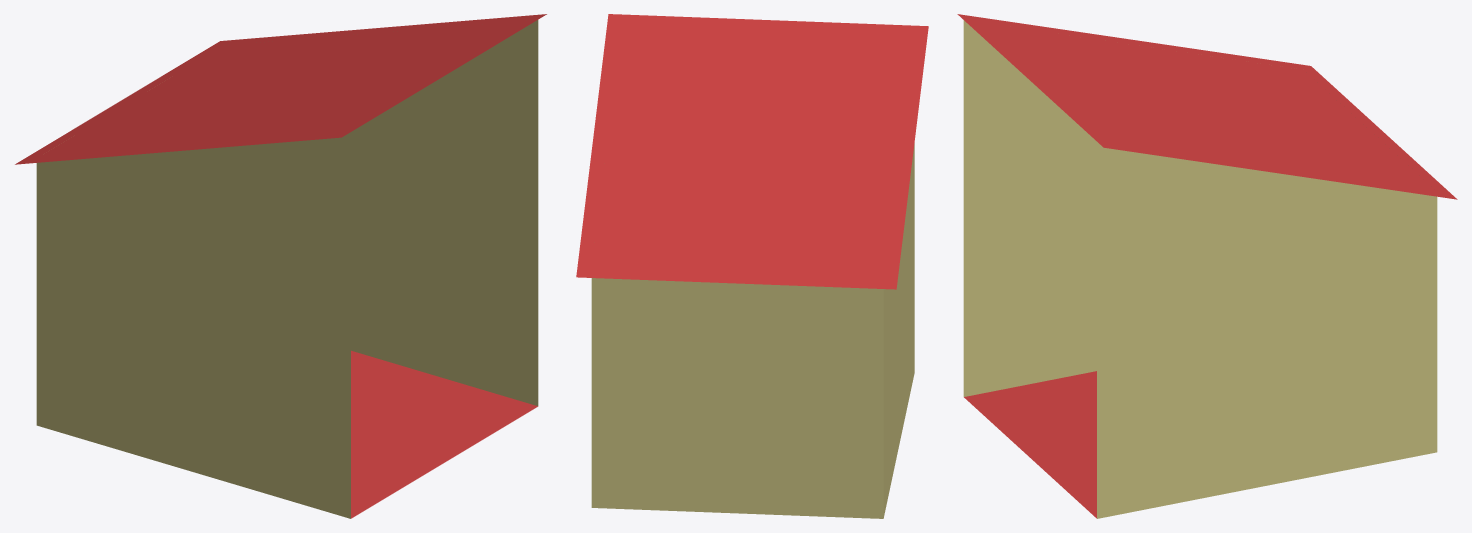
3 views of the same model, side by side, from view 1: azimuth 30°, elevation 25°; view 2: azimuth 150°, elevation 25°; view 3: azimuth 270°, elevation 25° (orthographic). The views are drawn at different scales.
Bounding box in the file's own units: 7.74 × 8.06 × 6.7.
